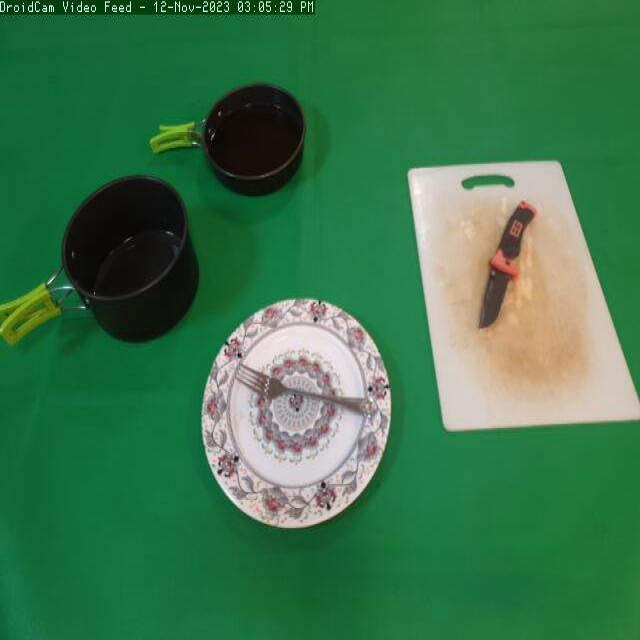cutting board: (400, 140, 640, 454)
fork: (230, 358, 378, 422)
fullpan: (146, 80, 315, 206)
knife: (472, 193, 544, 343)
plate: (200, 297, 398, 545)
pot: (0, 172, 195, 361)
